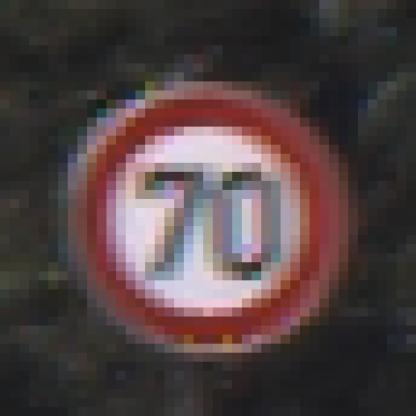Speed Limit 70: (81, 87, 337, 345)
